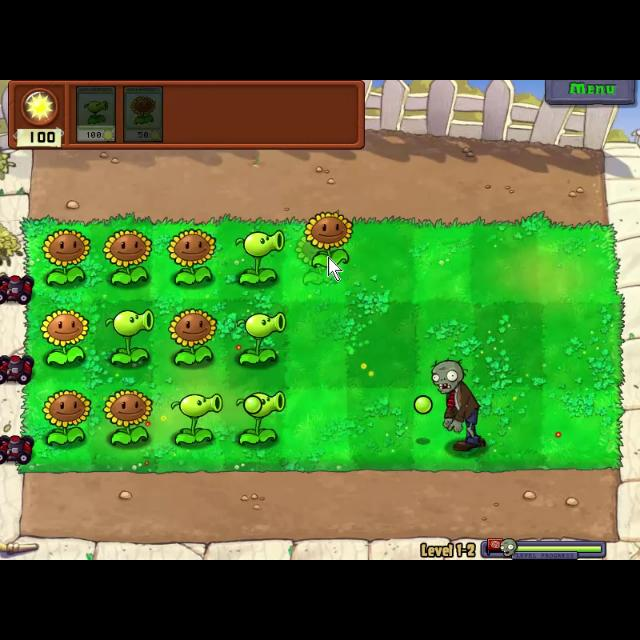Garden: (17, 216, 625, 474)
Menu Button: (546, 80, 636, 106)
Mower: (1, 432, 40, 466), (1, 350, 34, 388), (1, 272, 36, 304)
Peashooter: (76, 86, 118, 144)
Peashooter Seed: (232, 388, 290, 448), (232, 309, 288, 369), (232, 228, 286, 290), (168, 389, 222, 447), (102, 306, 154, 364)
Seed Panel: (8, 80, 368, 150)
Sunflower: (124, 82, 164, 144)
Sunflower Seed: (162, 304, 220, 374), (99, 224, 155, 288), (100, 384, 154, 450), (302, 208, 356, 272), (39, 387, 95, 448), (36, 306, 90, 368), (38, 224, 90, 286), (164, 226, 216, 286)
Zombie: (428, 358, 489, 452)
